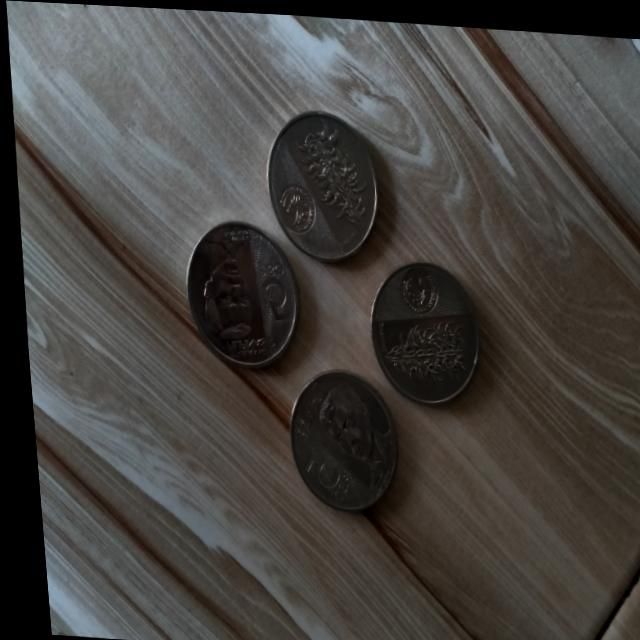5_New_Back: (369, 295, 487, 396), (292, 123, 366, 232)
5_New_Front: (285, 448, 348, 508), (247, 251, 292, 323)
